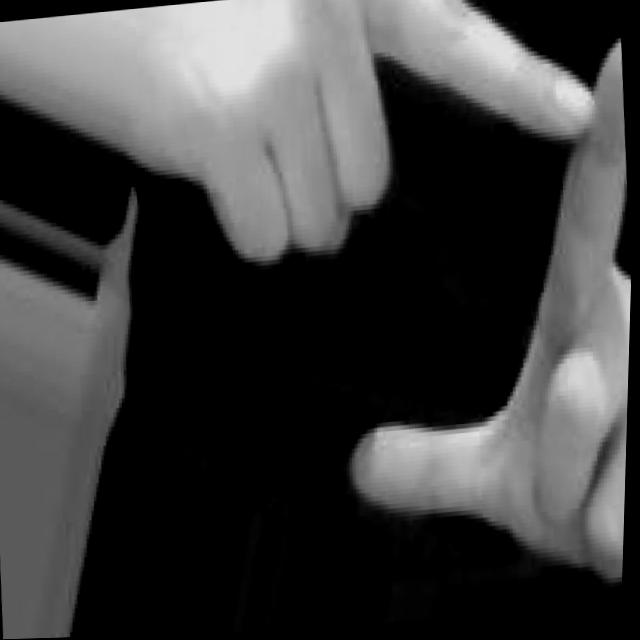J: (164, 0, 640, 635)
